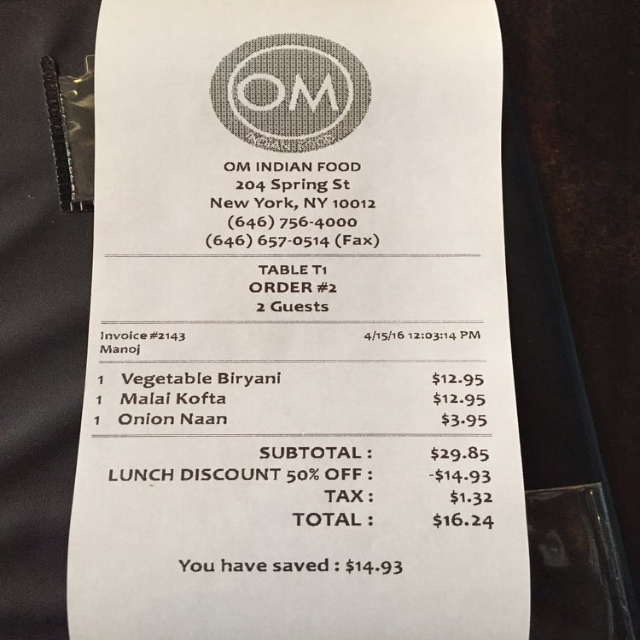invoice_table: (93, 370, 489, 431)
invoice_title: (204, 162, 381, 248)
invoice_total: (293, 507, 505, 533)
